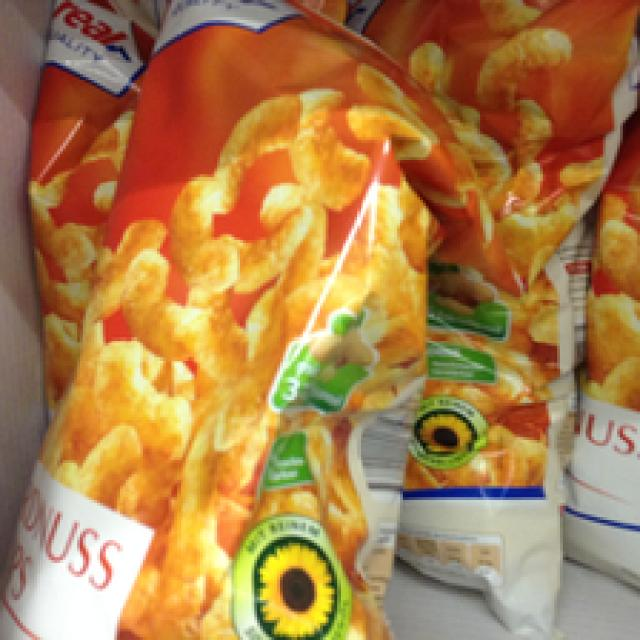groceries: (9, 0, 454, 637)
